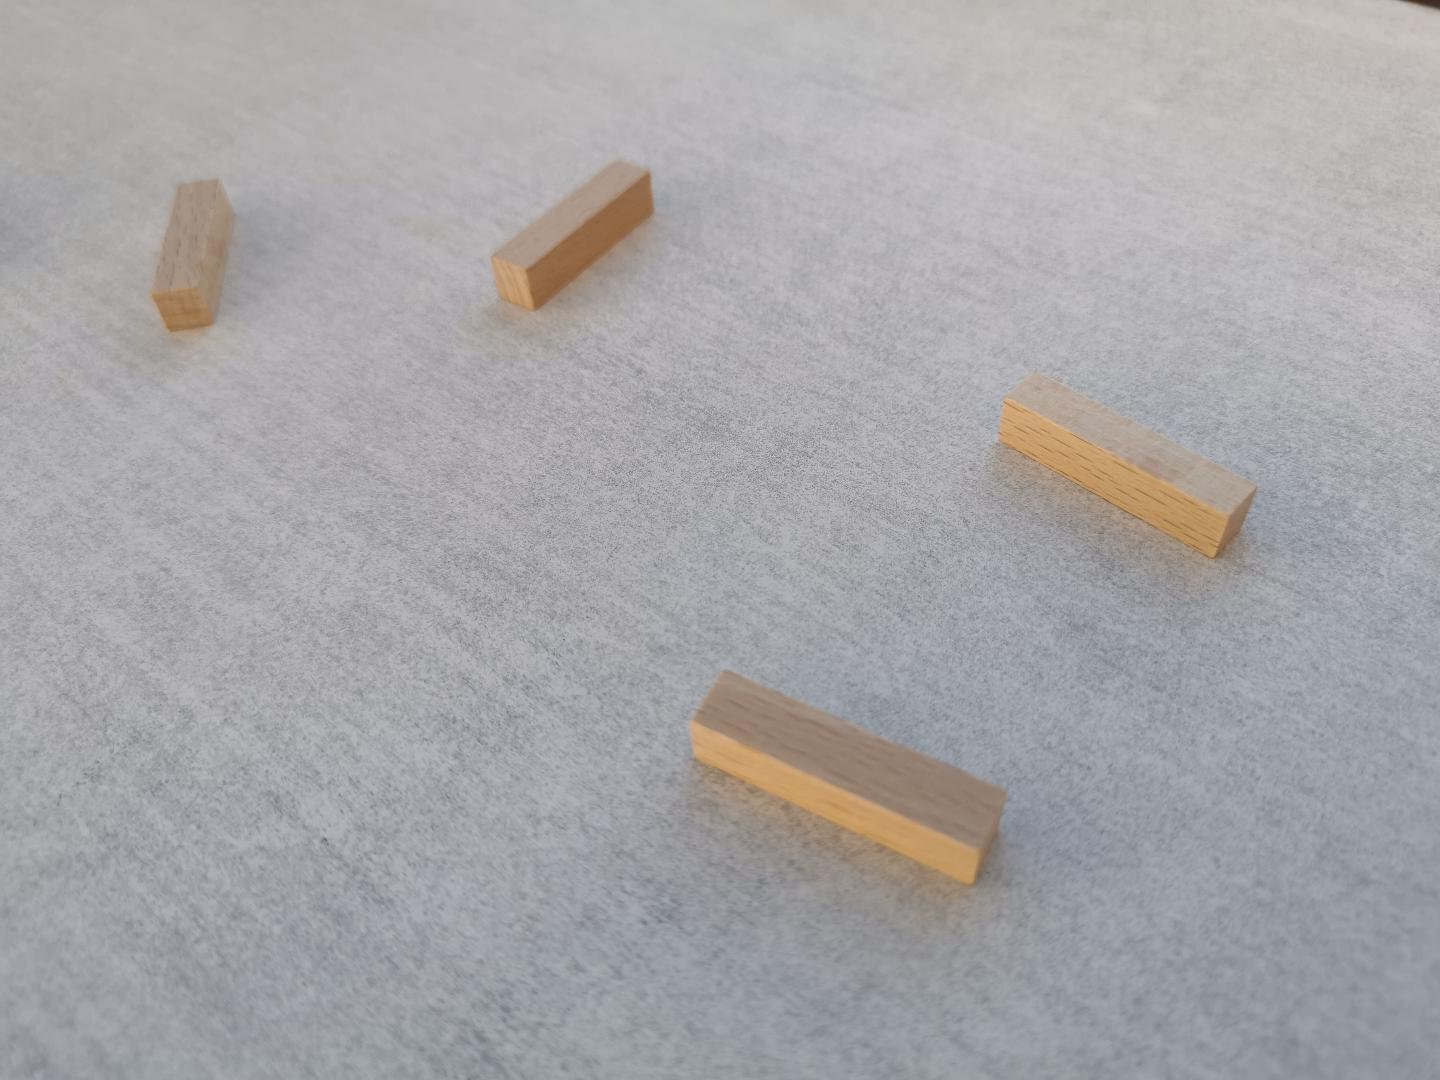jenga: (689, 673, 1007, 883), (999, 374, 1257, 557), (492, 160, 652, 310), (152, 180, 234, 329)
